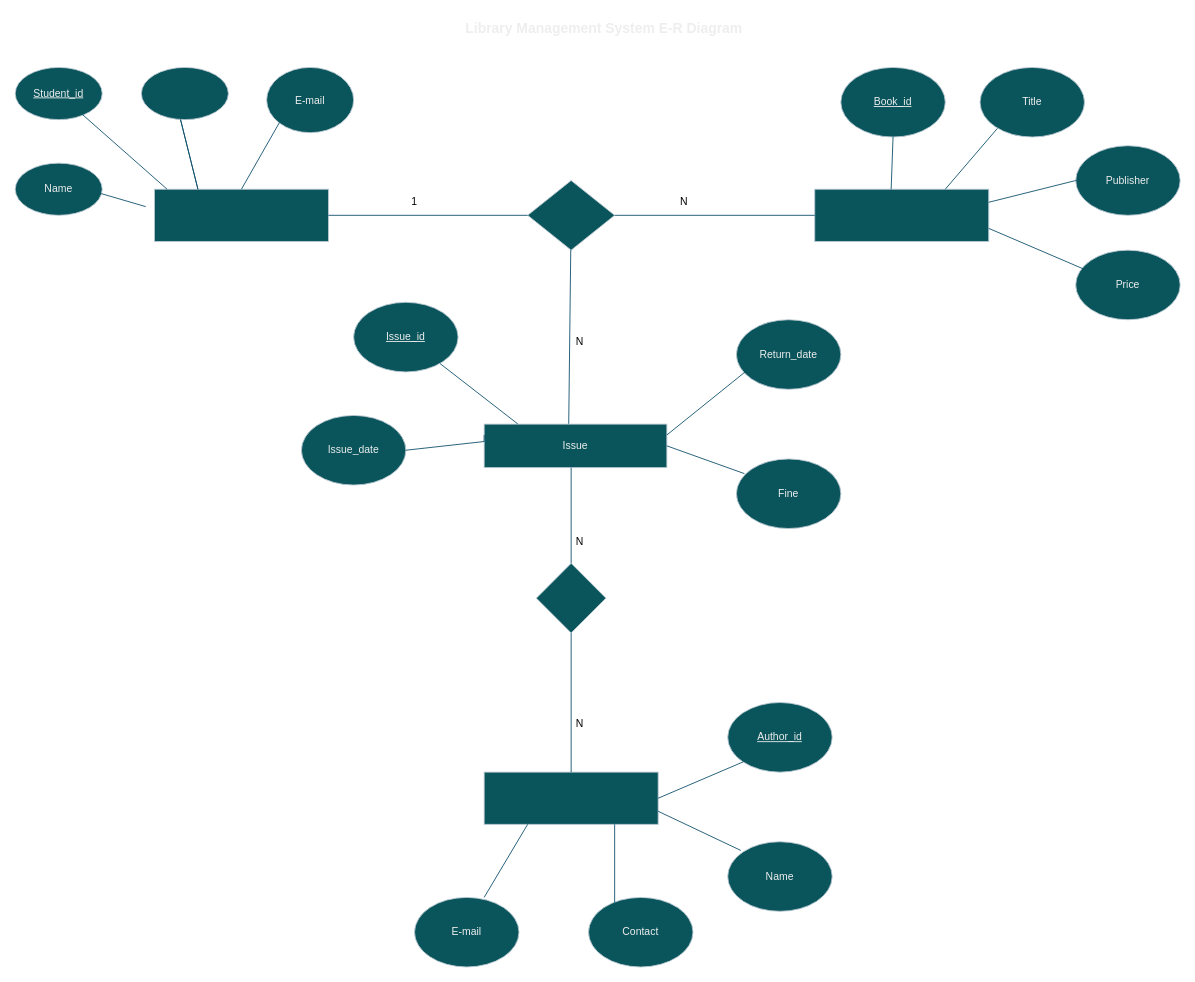
Some shapes in this 1195 by 982 pixel diagram are drawn without their labels. The shapes that lost their labels are listed below. From the top down, each one's centre as x and y in pixels, then its label:
At (x=184, y=93): "Phone".
At (x=241, y=214): "Student".
At (x=571, y=215): "borrows".
At (x=901, y=214): "Books".
At (x=570, y=597): "written by".
At (x=570, y=797): "Author".
